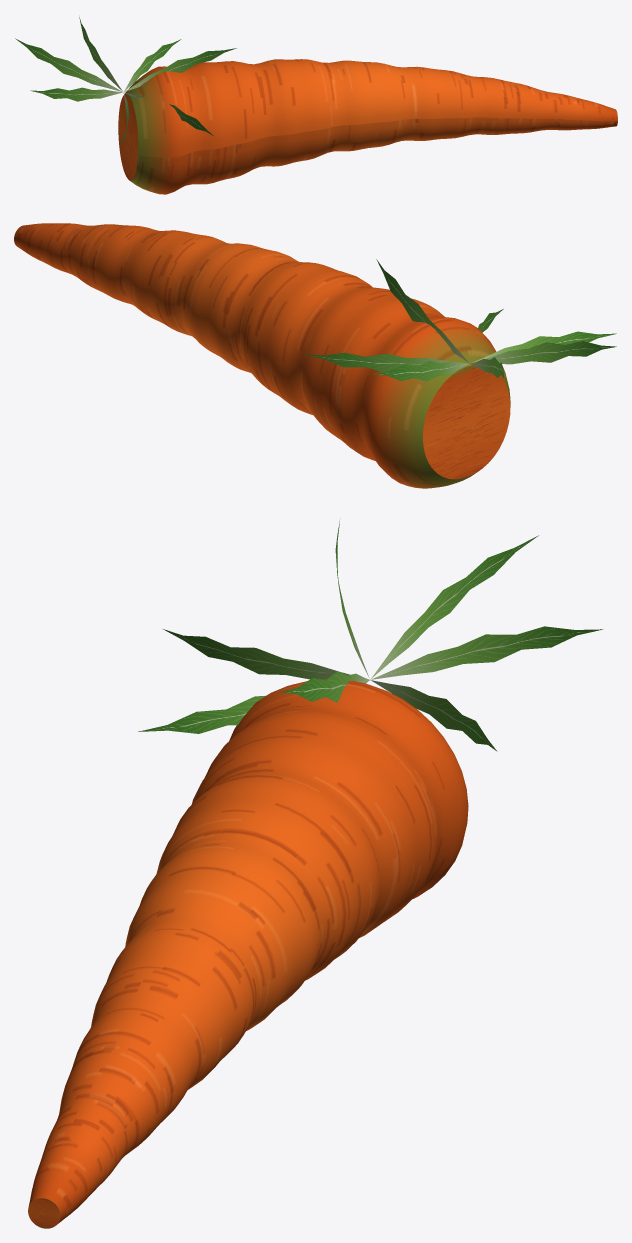
The model's file is Carrot.glb.
The picture shows the model from 3 angles, top to bottom: view 1: azimuth 30°, elevation 25°; view 2: azimuth 150°, elevation 25°; view 3: azimuth 270°, elevation 25°; orthographic projection. The views are drawn at different scales.
Visible parts, largest first — view 1: Carrot_Root, Carrot; view 2: Carrot_Root, Carrot; view 3: Carrot_Root, Carrot.
Boxes of the visible parts, box(x1,y1,x2,y2) form: Carrot_Root: box(118, 59, 617, 194); Carrot: box(15, 17, 236, 144); Carrot_Root: box(14, 223, 510, 488); Carrot: box(305, 259, 616, 381); Carrot_Root: box(28, 679, 468, 1228); Carrot: box(138, 521, 603, 751).
Bounding box in the file's own units: 1.65 × 0.4274 × 0.7988.
Materials: 2 (2 with a texture image).
